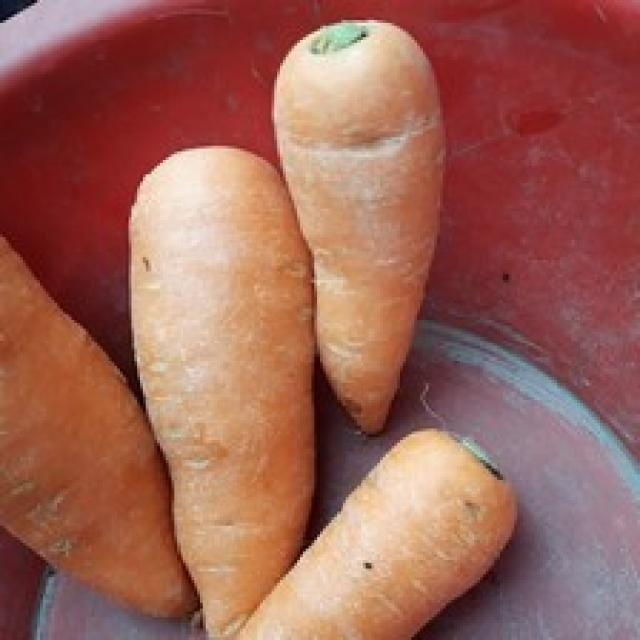carrot: (126, 146, 313, 640), (2, 218, 180, 627), (270, 18, 446, 430), (231, 425, 519, 640)
